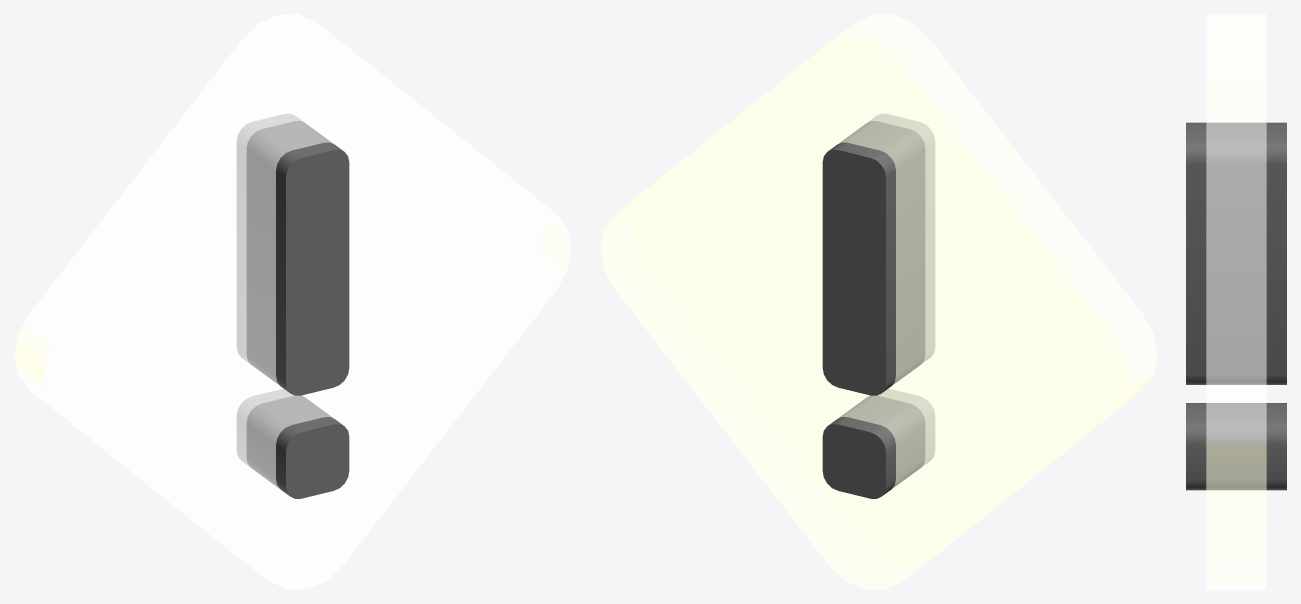
The model's file is marker_error.dae.
3 views of the same model, side by side, from view 1: azimuth 30°, elevation 25°; view 2: azimuth 150°, elevation 25°; view 3: azimuth 270°, elevation 25° (orthographic). The views are drawn at different scales.
Parts seen in each view (by area): view 1: Error; view 2: Error; view 3: Error.
Part boxes in pixels (box(x1,y1,x2,y2)): Error: box(14, 14, 571, 589); Error: box(600, 14, 1157, 589); Error: box(1186, 14, 1286, 589).
Size of the model in its own units: 123 by 19.9 by 123.
